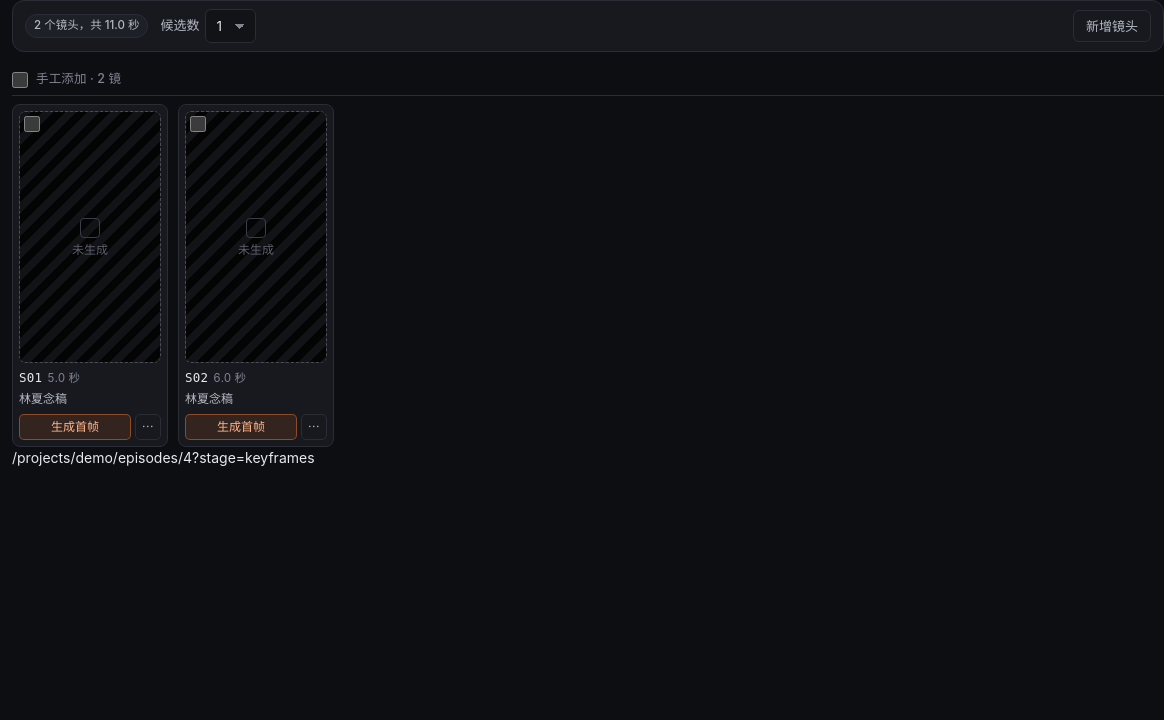
Test: ShotStage › 全部跳过（没有任务）：不显示「已提交」跟踪条，只显示说明
The width and height of the screenshot is (1164, 720).
Click the button with aria-label "生成首帧 S01".
click(75, 427)  # box [19,414,131,440]
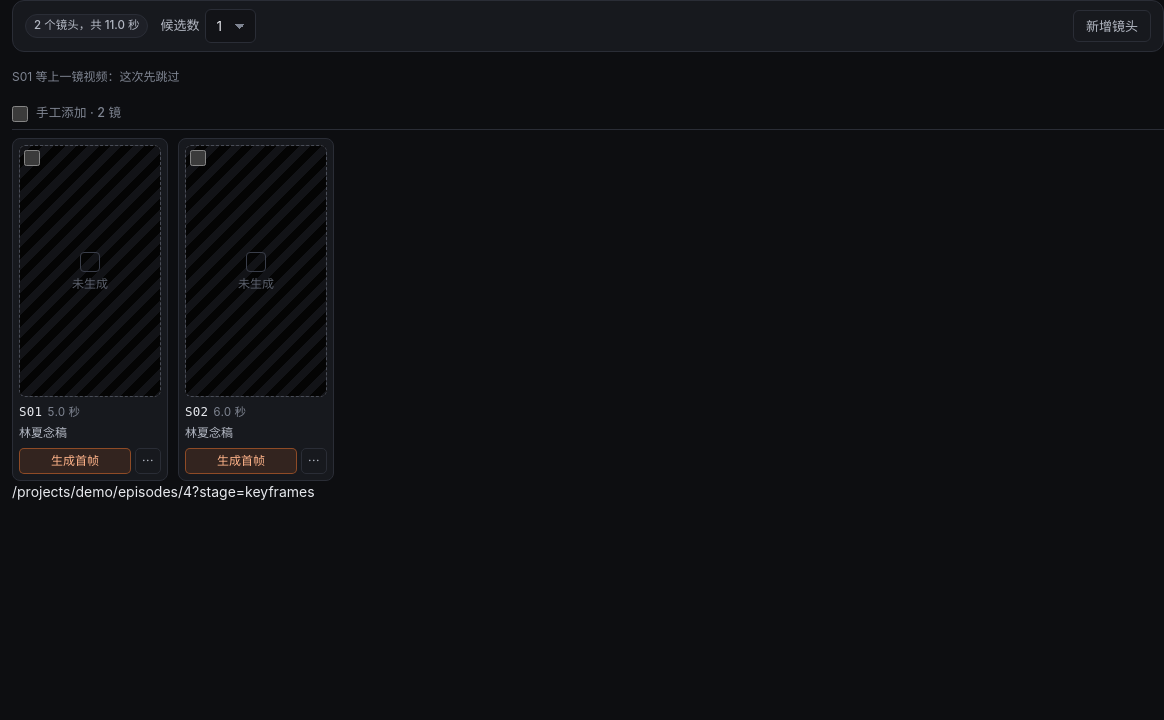
Expected: the text with test id "run-note" reads "S01 等上一镜视频：这次先跳过", [12,69,180,84]
